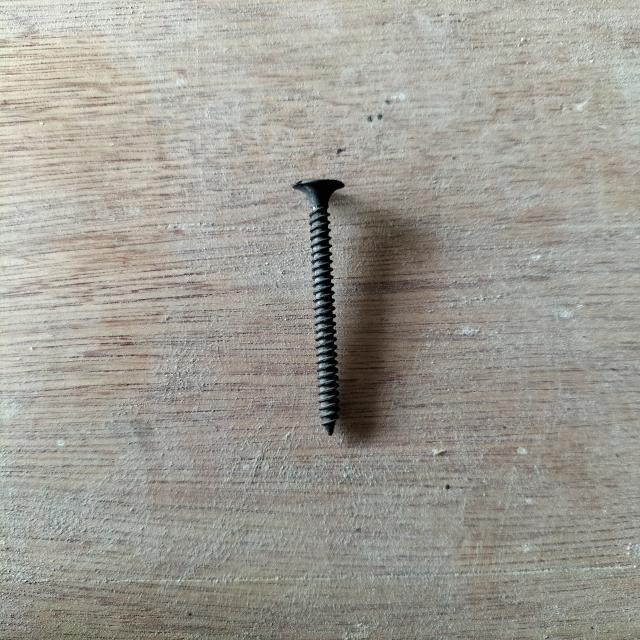screw: (292, 180, 347, 439)
